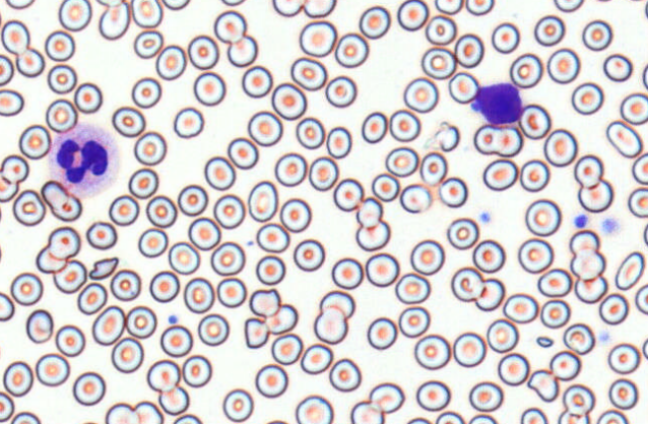GRAN: (50, 124, 119, 199)
MONO: (471, 81, 524, 127)
PLT: (601, 218, 619, 237), (573, 214, 590, 229), (478, 211, 493, 225), (167, 315, 179, 325)
RBC: (40, 180, 82, 221), (473, 123, 522, 157), (524, 198, 561, 236), (605, 120, 642, 158), (298, 20, 336, 57), (91, 305, 125, 345), (413, 334, 450, 370), (271, 82, 306, 120), (543, 128, 577, 167), (247, 180, 278, 222), (517, 237, 553, 273), (247, 110, 283, 146), (403, 76, 438, 113), (313, 306, 347, 344), (409, 239, 444, 275), (334, 32, 369, 68), (290, 56, 327, 90), (98, 1, 130, 40), (364, 252, 399, 287), (210, 241, 245, 276), (577, 178, 613, 212), (450, 266, 484, 302), (452, 331, 486, 367), (12, 189, 45, 226), (614, 251, 645, 290), (52, 259, 87, 293), (254, 363, 288, 398), (546, 48, 580, 83), (482, 158, 518, 191), (420, 46, 456, 79), (509, 52, 542, 88), (111, 336, 143, 373), (328, 357, 361, 392), (72, 371, 105, 406), (18, 124, 51, 159), (274, 152, 307, 187), (35, 353, 70, 386), (193, 71, 226, 106), (394, 272, 430, 304), (518, 103, 550, 139), (213, 193, 245, 229), (2, 360, 33, 397), (294, 394, 333, 423), (146, 359, 180, 392), (187, 217, 221, 250), (133, 131, 166, 165), (472, 239, 505, 273), (571, 81, 604, 115), (279, 197, 311, 232), (486, 318, 518, 353), (187, 34, 219, 69), (368, 382, 404, 413), (183, 277, 214, 313), (502, 292, 538, 323), (155, 44, 186, 80), (47, 226, 80, 259), (10, 272, 43, 305), (159, 324, 192, 357), (213, 10, 246, 43), (497, 352, 529, 386), (45, 98, 77, 132), (145, 194, 177, 228), (111, 105, 145, 137), (358, 5, 390, 39), (570, 249, 605, 280), (204, 155, 235, 190), (468, 381, 503, 412), (415, 380, 450, 411), (308, 155, 338, 191), (607, 342, 640, 374), (325, 75, 357, 108), (197, 313, 229, 346), (293, 238, 325, 271), (168, 241, 200, 274), (446, 217, 479, 249), (562, 322, 595, 354), (366, 316, 397, 350), (255, 222, 289, 253), (58, 0, 92, 31), (333, 177, 364, 211), (222, 388, 253, 422), (519, 158, 550, 192), (537, 267, 572, 297), (0, 19, 30, 54), (454, 33, 484, 68), (319, 290, 355, 319), (270, 333, 302, 365), (331, 257, 363, 289), (562, 383, 594, 415), (533, 14, 565, 46), (76, 282, 107, 315), (300, 343, 333, 374), (181, 354, 212, 387), (448, 71, 479, 104), (226, 34, 257, 67), (389, 109, 420, 142), (125, 305, 156, 338), (385, 146, 418, 177), (110, 268, 141, 301), (227, 136, 258, 169), (241, 65, 272, 98), (573, 154, 603, 188), (475, 277, 505, 311), (149, 270, 180, 302), (108, 194, 139, 226), (398, 306, 430, 337), (177, 184, 208, 216), (549, 350, 581, 381), (173, 106, 204, 138), (396, 0, 428, 31), (581, 19, 612, 51), (399, 183, 432, 213), (55, 324, 85, 357), (295, 116, 325, 149), (598, 292, 628, 325), (25, 308, 53, 343), (44, 30, 75, 61), (425, 14, 456, 45), (85, 220, 117, 250), (131, 76, 161, 108), (419, 151, 447, 185), (35, 244, 66, 274), (608, 378, 638, 409), (158, 385, 189, 415), (255, 254, 285, 285), (137, 227, 168, 257), (128, 167, 158, 198), (216, 277, 246, 308), (574, 275, 607, 303), (130, 0, 163, 28), (438, 176, 467, 207), (73, 82, 102, 113), (491, 22, 520, 53), (355, 196, 383, 228), (620, 92, 647, 125), (0, 154, 29, 184), (133, 29, 163, 58), (15, 47, 44, 77), (47, 64, 76, 94), (540, 299, 570, 328), (602, 53, 632, 82), (371, 172, 399, 202), (569, 229, 600, 256), (326, 126, 352, 158), (361, 111, 387, 143), (350, 400, 383, 423), (104, 402, 138, 423), (0, 88, 24, 116), (134, 400, 163, 423), (627, 187, 647, 218), (303, 0, 336, 18), (272, 0, 303, 17), (631, 152, 647, 184), (0, 174, 18, 202), (596, 409, 629, 423), (0, 54, 14, 86), (557, 409, 589, 423), (520, 407, 548, 423), (465, 0, 494, 15), (0, 391, 14, 422), (0, 291, 14, 321), (634, 283, 647, 314), (434, 0, 462, 14), (435, 410, 465, 423), (10, 411, 41, 423), (553, 0, 584, 12), (468, 413, 498, 423), (172, 413, 202, 423), (162, 0, 190, 10), (5, 0, 35, 9), (95, 0, 123, 7), (405, 416, 432, 423), (220, 0, 245, 6), (642, 63, 647, 90), (643, 222, 648, 247), (264, 419, 288, 424), (642, 337, 647, 360), (77, 420, 100, 424), (644, 0, 648, 19), (625, 0, 646, 2), (594, 0, 613, 2)
Schistocyte: (526, 369, 559, 403), (246, 286, 282, 317), (356, 221, 391, 252), (265, 305, 299, 335), (244, 318, 269, 349), (89, 256, 119, 280), (435, 127, 459, 151), (534, 335, 555, 348)
